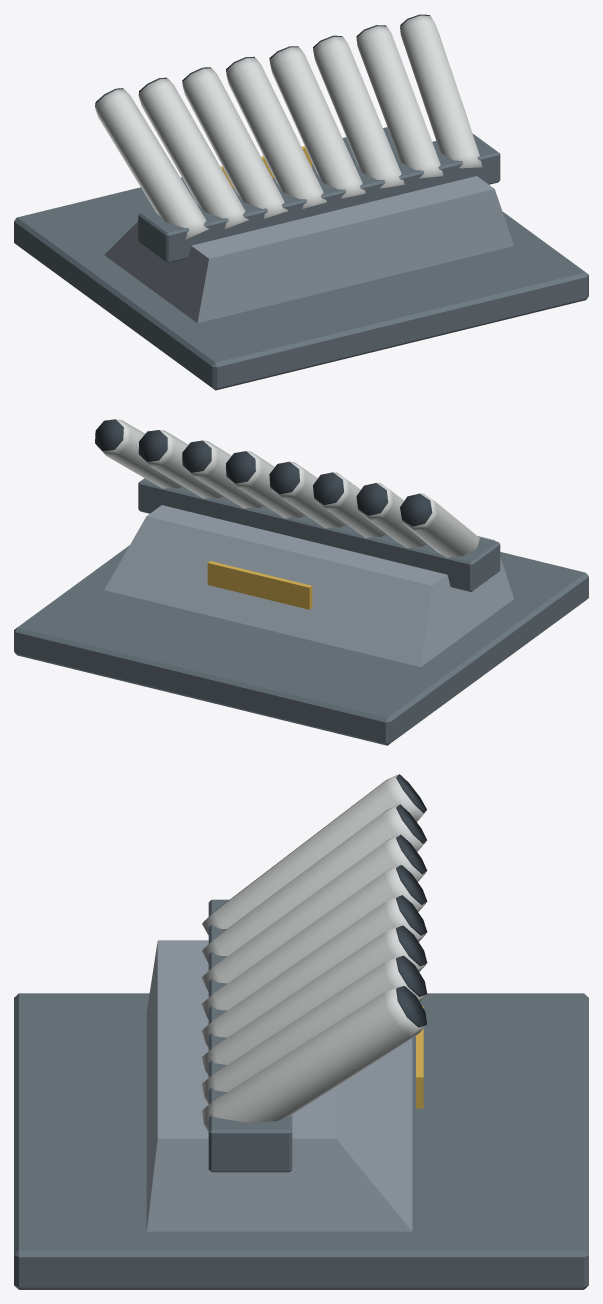
File: MOD_DecoyLauncher.fbx
3 views of the same model, one above another, from view 1: azimuth 30°, elevation 25°; view 2: azimuth 150°, elevation 25°; view 3: azimuth 270°, elevation 25° (orthographic). The views are drawn at different scales.
Visible parts, largest first — view 1: MOD_DecoyLauncher_Root_Visual; view 2: MOD_DecoyLauncher_Root_Visual; view 3: MOD_DecoyLauncher_Root_Visual.
Boxes of the visible parts, x1,y1,x2,y2 form: MOD_DecoyLauncher_Root_Visual: [14, 14, 588, 390]; MOD_DecoyLauncher_Root_Visual: [14, 419, 588, 745]; MOD_DecoyLauncher_Root_Visual: [14, 774, 588, 1289].
Bounding box in the file's own units: 170 × 84.72 × 158.
